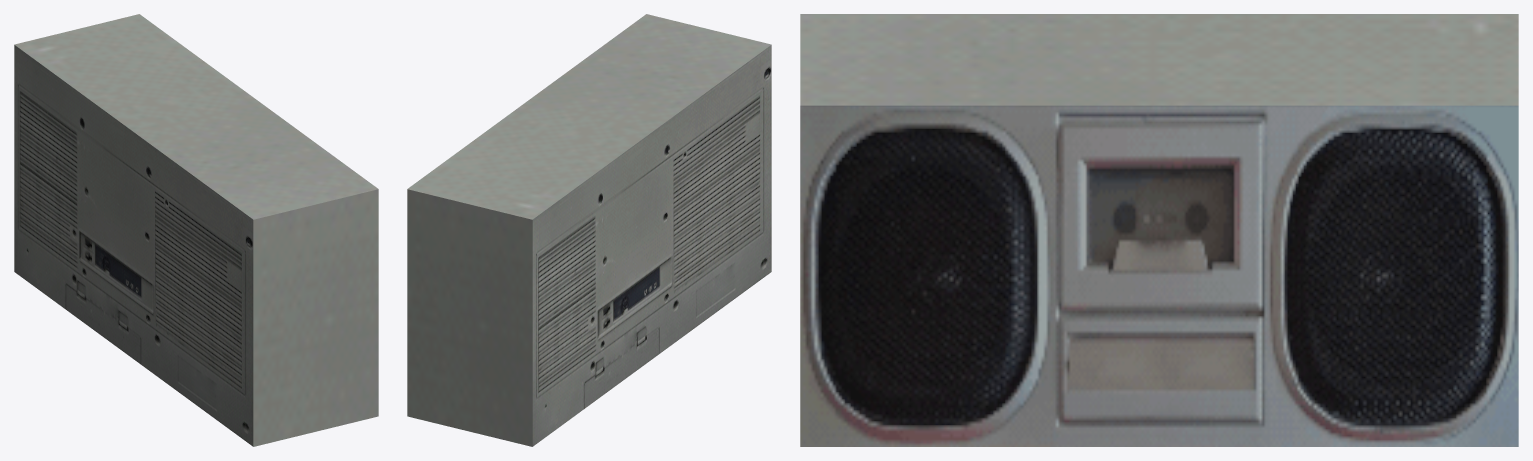
The model's file is SoundSystem.fbx.
3 renders of one model, left to right at view 1: azimuth 30°, elevation 25°; view 2: azimuth 150°, elevation 25°; view 3: azimuth 270°, elevation 25°, orthographic. The views are drawn at different scales.
Visible parts, largest first — view 1: SoundSystem; view 2: SoundSystem; view 3: SoundSystem.
Part boxes in pixels (x1=…): SoundSystem: x1=14, y1=14, x2=378, y2=446; SoundSystem: x1=407, y1=14, x2=771, y2=446; SoundSystem: x1=800, y1=14, x2=1518, y2=446.
Bounding box in the file's own units: 9 × 15.59 × 29.76.
